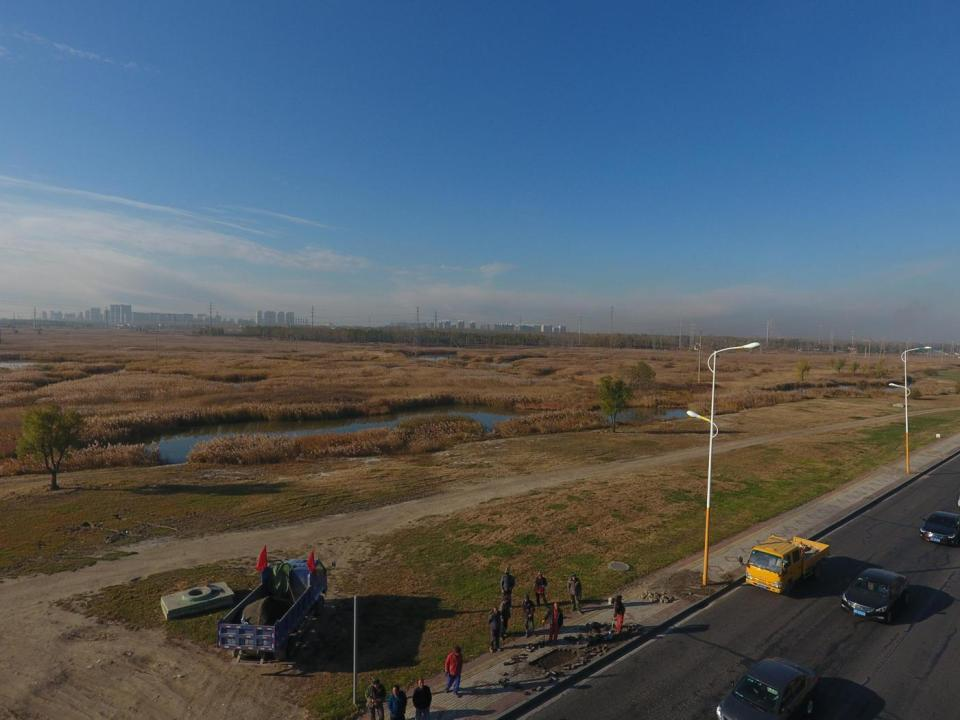car: (716, 655, 820, 720), (842, 568, 910, 623), (920, 510, 960, 547)
truck: (221, 555, 330, 661), (745, 534, 830, 595)
